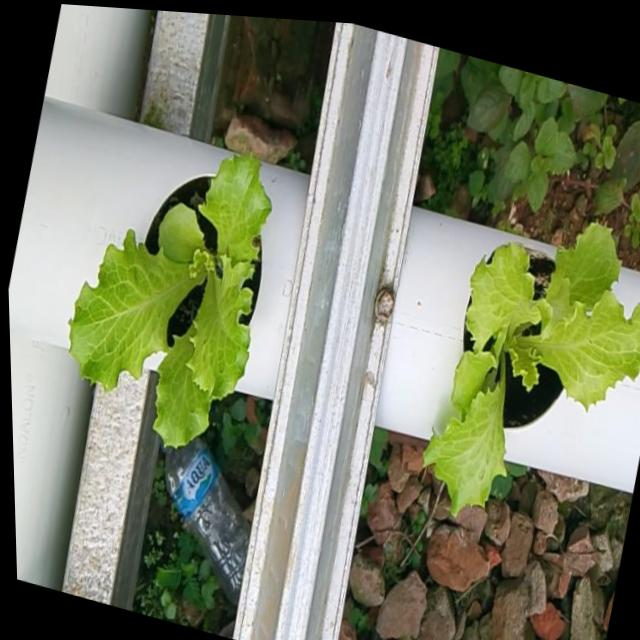Baby: (415, 224, 638, 513), (63, 154, 264, 448)
